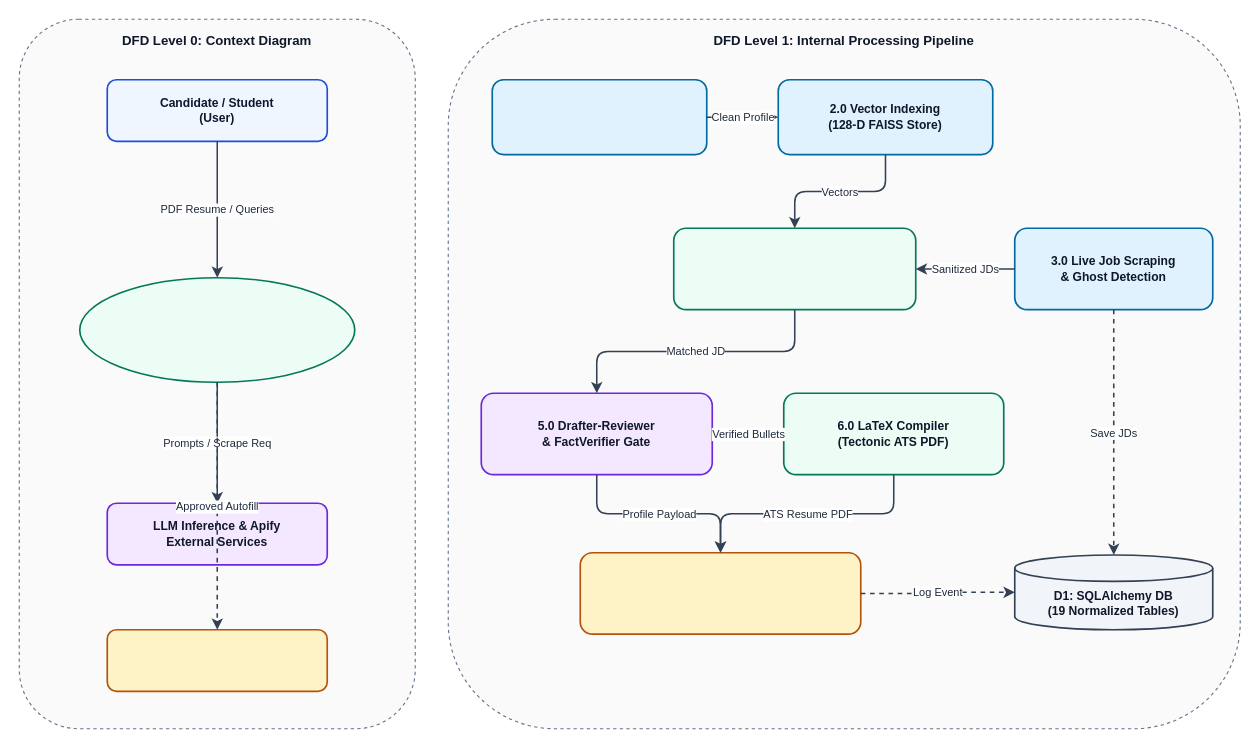
Some shapes in this 1260 by 748 pixel diagram are drawn without their labels. The shapes that lost their labels are listed below. From the top down, each one's box as (x1, y1, x2, y2) in pixels, then its label:
(491, 78, 707, 155): 1.0 Resume Ingestion & PostingGuard Audit
(672, 227, 916, 310): 4.0 4-Factor Hybrid Job Matching Engine
(78, 276, 355, 383): 0.0 AI-Powered Resume Automation System
(579, 551, 861, 634): 7.0 Extension WebSocket Form Mapper & Approval
(106, 628, 328, 692): Target ATS & Job Application Portals
